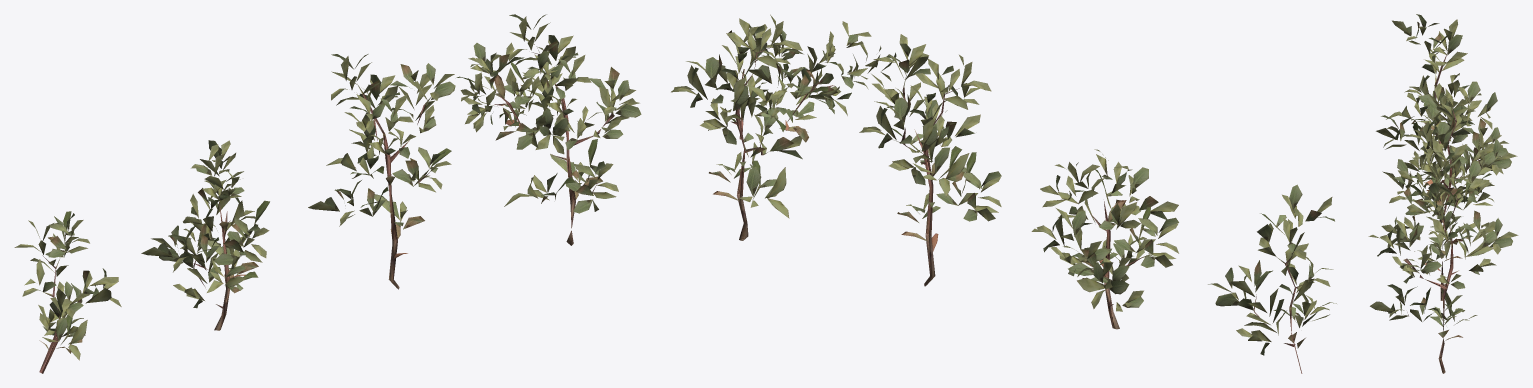
File: shrub_04.glb
3 views of the same model, side by side, from view 1: azimuth 30°, elevation 25°; view 2: azimuth 150°, elevation 25°; view 3: azimuth 270°, elevation 25° (orthographic). The views are drawn at different scales.
Visible parts, largest first — view 1: shrub_04; view 2: shrub_04; view 3: shrub_04.
Part boxes in pixels (x1=…): shrub_04: x1=14, y1=14, x2=641, y2=373; shrub_04: x1=671, y1=14, x2=1336, y2=373; shrub_04: x1=1368, y1=14, x2=1518, y2=373.
Bounding box in the file's own units: 0.5837 × 0.2185 × 0.1461.
Materials: 1 (1 with a texture image).
